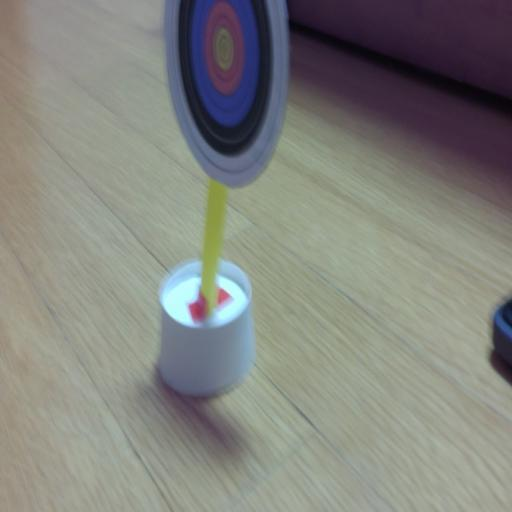target: (166, 0, 289, 186)
